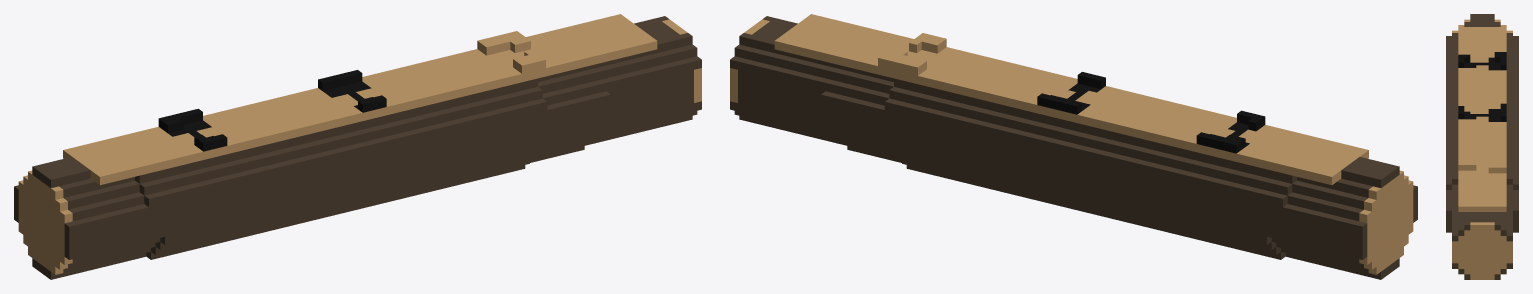
File: notched_stick.glb
3 views of the same model, side by side, from view 1: azimuth 30°, elevation 25°; view 2: azimuth 150°, elevation 25°; view 3: azimuth 270°, elevation 25° (orthographic). The views are drawn at different scales.
Parts seen in each view (by area): view 1: notched_stick:compound; view 2: notched_stick:compound; view 3: notched_stick:compound.
Boxes of the visible parts, x1,y1,x2,y2 form: notched_stick:compound: (14,14,701,279); notched_stick:compound: (730,14,1417,279); notched_stick:compound: (1446,14,1518,279).
Size of the model in its own units: 0.32 by 0.052 by 0.048.
